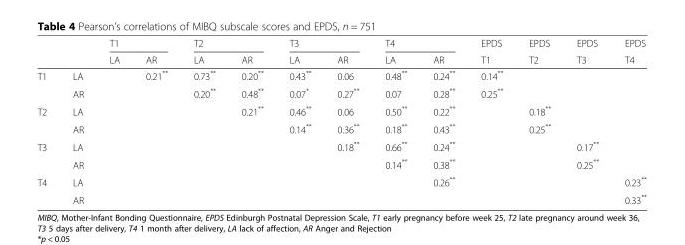table: (36, 37, 645, 205)
table column: (132, 37, 180, 205), (227, 37, 275, 205), (275, 37, 323, 205), (323, 37, 371, 205), (371, 37, 419, 205), (419, 37, 467, 205), (467, 37, 515, 205), (515, 37, 563, 205), (563, 37, 611, 205), (180, 37, 227, 205), (95, 37, 132, 205), (59, 37, 95, 205), (611, 37, 645, 205), (36, 37, 59, 205)
table column header: (36, 37, 645, 66)
table row: (36, 66, 645, 84), (36, 101, 645, 119), (36, 119, 645, 137), (36, 154, 645, 172), (36, 172, 645, 190), (36, 84, 645, 101), (36, 137, 645, 154), (36, 51, 645, 66), (36, 190, 645, 205), (36, 37, 645, 51)
table spanning cell: (467, 37, 515, 66), (515, 37, 563, 66), (563, 37, 611, 66), (275, 37, 371, 51), (371, 37, 467, 51), (180, 37, 275, 51), (95, 37, 180, 51), (611, 37, 645, 66), (36, 101, 59, 137), (36, 66, 59, 101), (36, 137, 59, 172), (36, 172, 59, 205)
